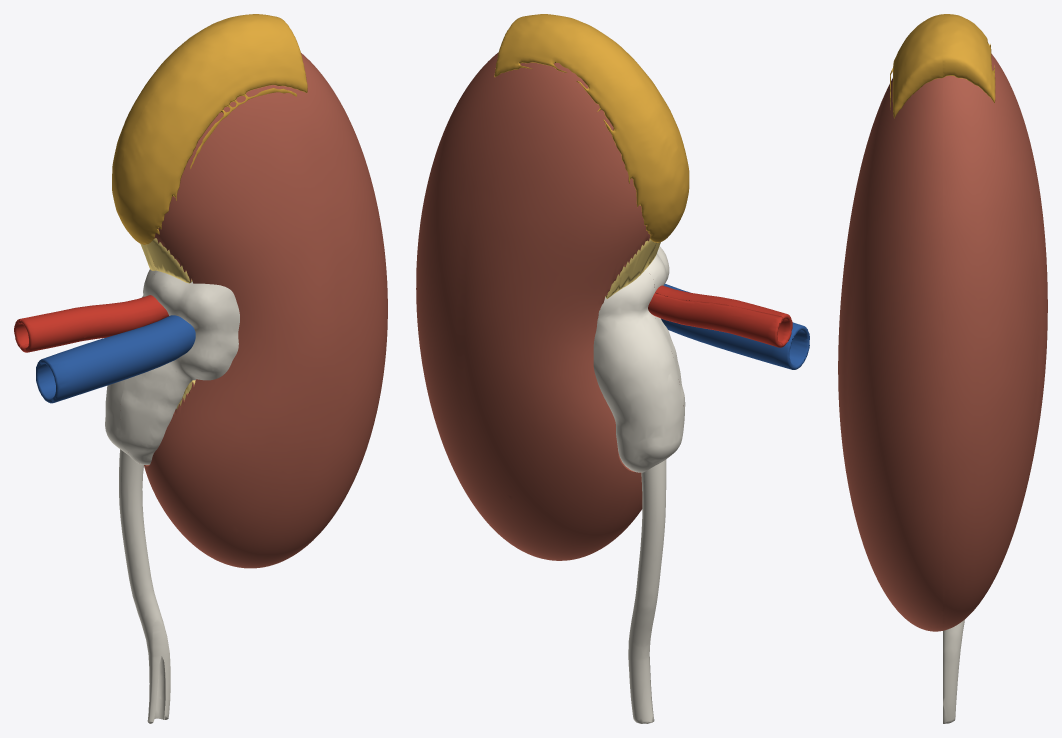
Rendered from kidney_hydro_2_coronal.glb.
3 renders of one model, left to right at view 1: azimuth 30°, elevation 25°; view 2: azimuth 150°, elevation 25°; view 3: azimuth 270°, elevation 25°, orthographic. The views are drawn at different scales.
Parts seen in each view (by area): view 1: anterior_half, ureter, adrenal_gland, renal_pelvis; view 2: renal_cortex, adrenal_gland, renal_pelvis, anterior_half, ureter, renal_artery, renal_sinus; view 3: anterior_half, renal_cortex, adrenal_gland, ureter.
Part boxes in pixels (box(x1,y1,x2,y2)): anterior_half: box(20, 18, 387, 568); ureter: box(119, 449, 170, 723); adrenal_gland: box(112, 14, 283, 240); renal_pelvis: box(105, 269, 157, 464); renal_cortex: box(416, 52, 650, 560); adrenal_gland: box(494, 15, 684, 242); renal_pelvis: box(593, 269, 683, 472); anterior_half: box(522, 14, 809, 550); ureter: box(628, 459, 666, 723); renal_artery: box(648, 293, 783, 347); renal_sinus: box(605, 238, 656, 298); anterior_half: box(838, 14, 942, 631); renal_cortex: box(943, 53, 1047, 630); adrenal_gland: box(943, 14, 995, 102); ureter: box(943, 619, 964, 723).
Bounding box in the file's own units: 7.85 × 14.23 × 3.66.
Materials: 1 (1 with a texture image).
